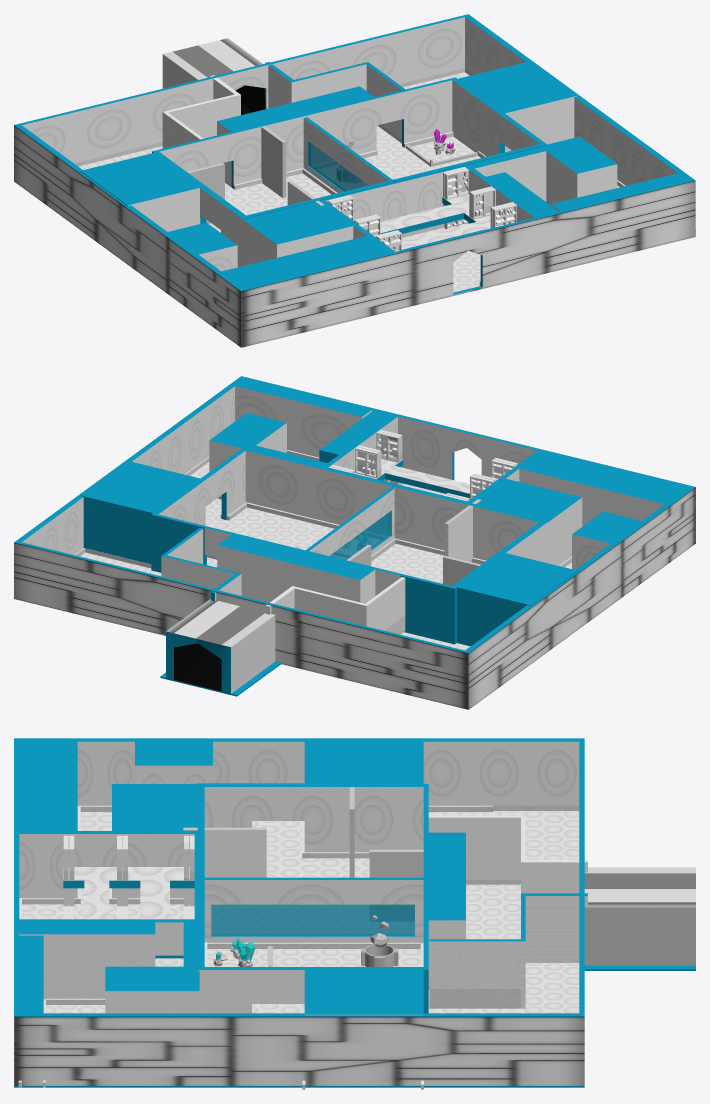
The model's file is SM_Temp_Level_2.fbx.
3 renders of one model, top to bottom at view 1: azimuth 30°, elevation 25°; view 2: azimuth 150°, elevation 25°; view 3: azimuth 270°, elevation 25°, orthographic. The views are drawn at different scales.
Parts seen in each view (by area): view 1: pasted__pCylinder1; view 2: pasted__pCylinder1; view 3: pasted__pCylinder1.
Part boxes in pixels (bbox=[...]): pasted__pCylinder1: bbox=[14, 14, 695, 347]; pasted__pCylinder1: bbox=[14, 376, 695, 709]; pasted__pCylinder1: bbox=[14, 738, 695, 1089].
Size of the model in its own units: 130 by 23.15 by 132.
